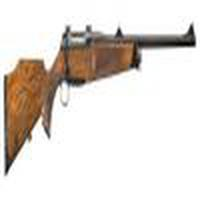gun: (2, 28, 200, 165)
